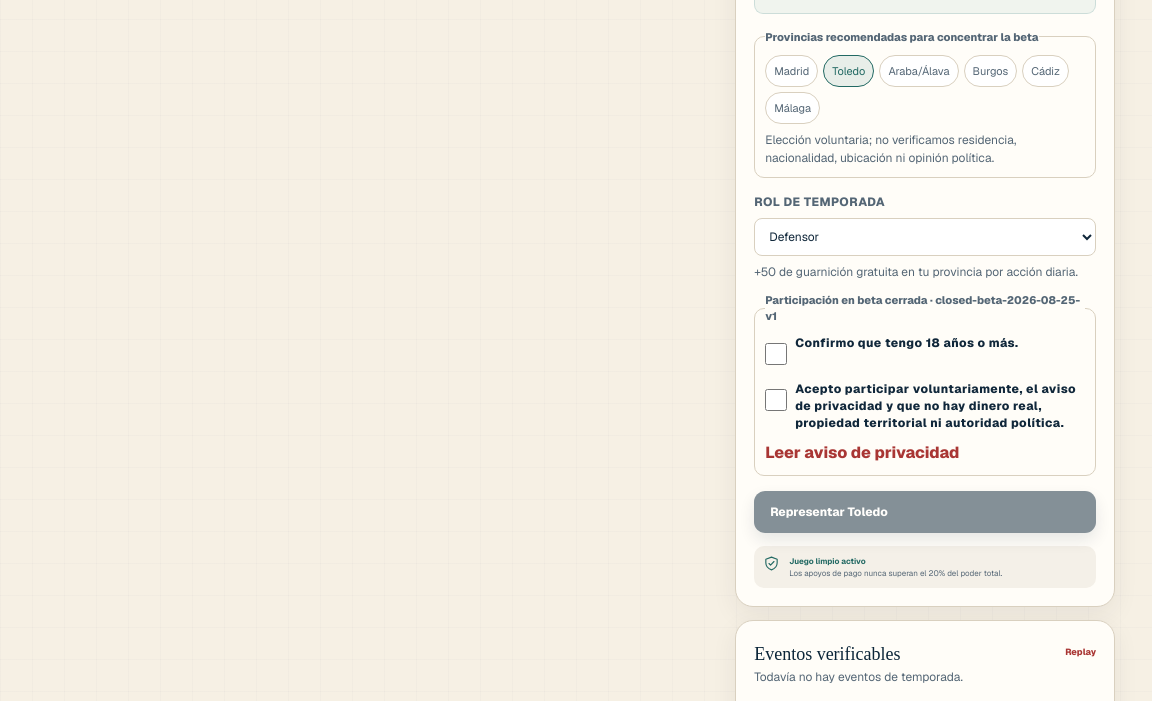
it: TerritoriosGame › requires versioned adult beta consent before a newcomer can join
(page scrolled)
expect the button "Representar Toledo" is disabled: met, box [754, 491, 1096, 533]
expect the button "Madrid" is shown: met, box [765, 55, 818, 87]
Step 1. Click the checkbox labelled "Confirmo que tengo 18 años o más." → [776, 354], box [765, 334, 787, 372]
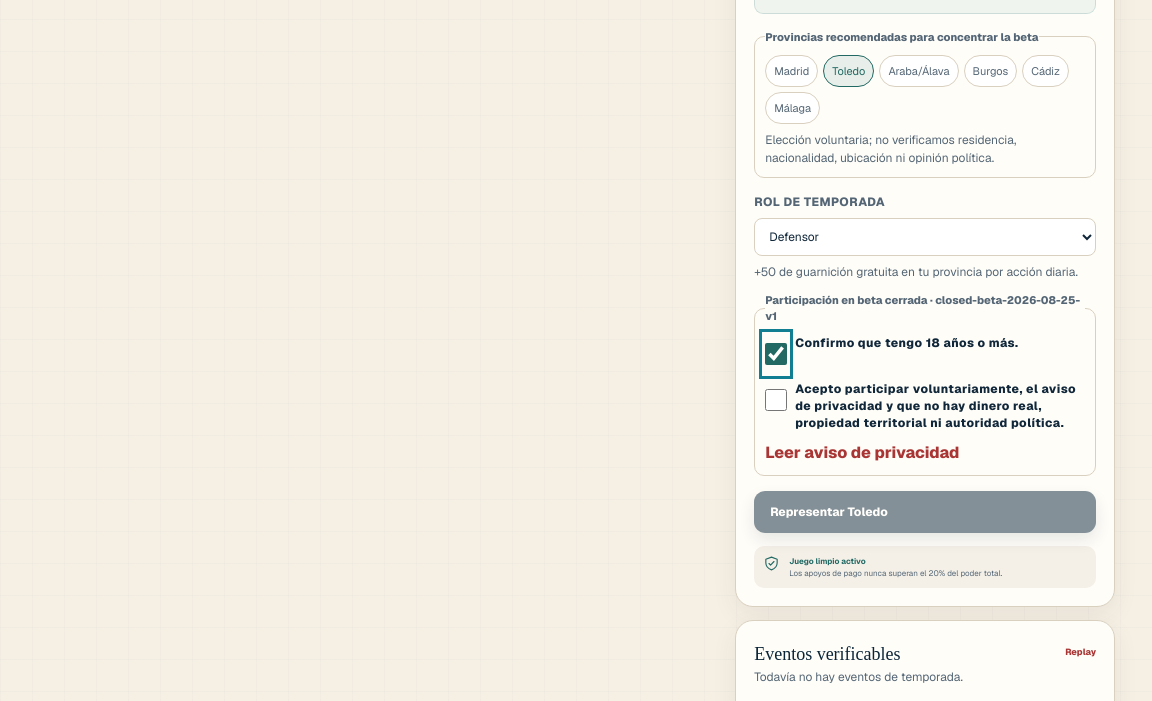
Step 2. Click the checkbox labelled "Acepto participar voluntariamente" → [776, 400], box [765, 380, 787, 418]
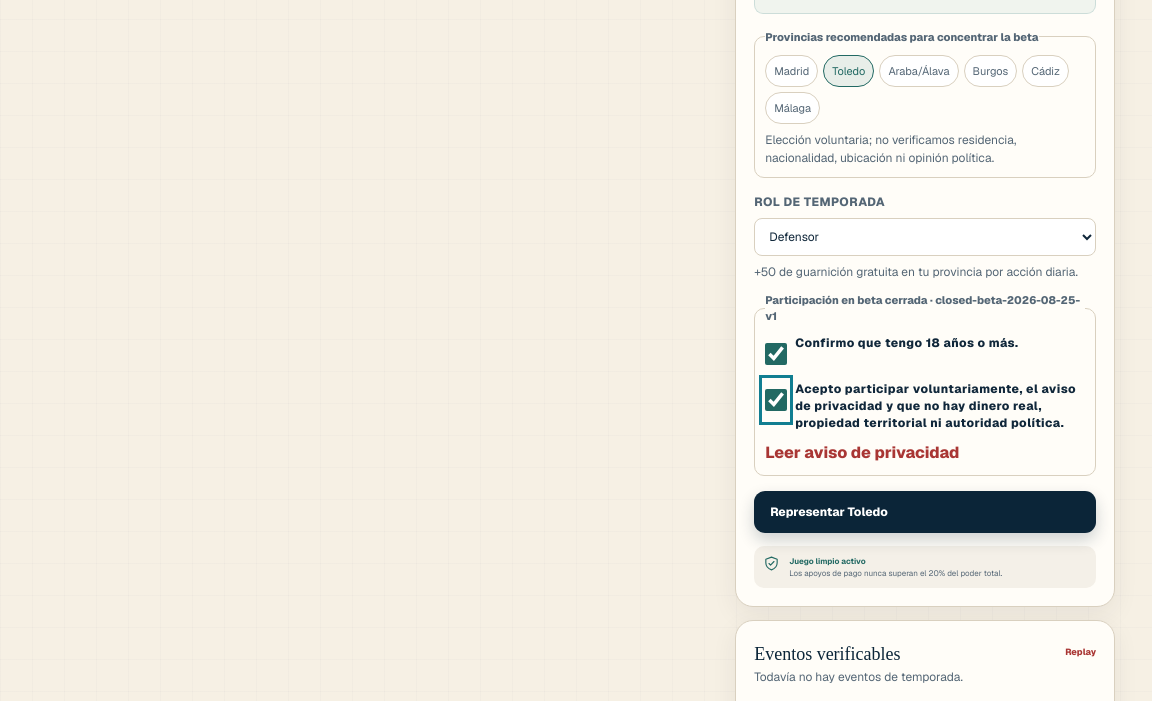
expect the button "Representar Toledo" is enabled: met
Step 3. Click the button "Representar Toledo" → [829, 512], box [754, 491, 1096, 533]
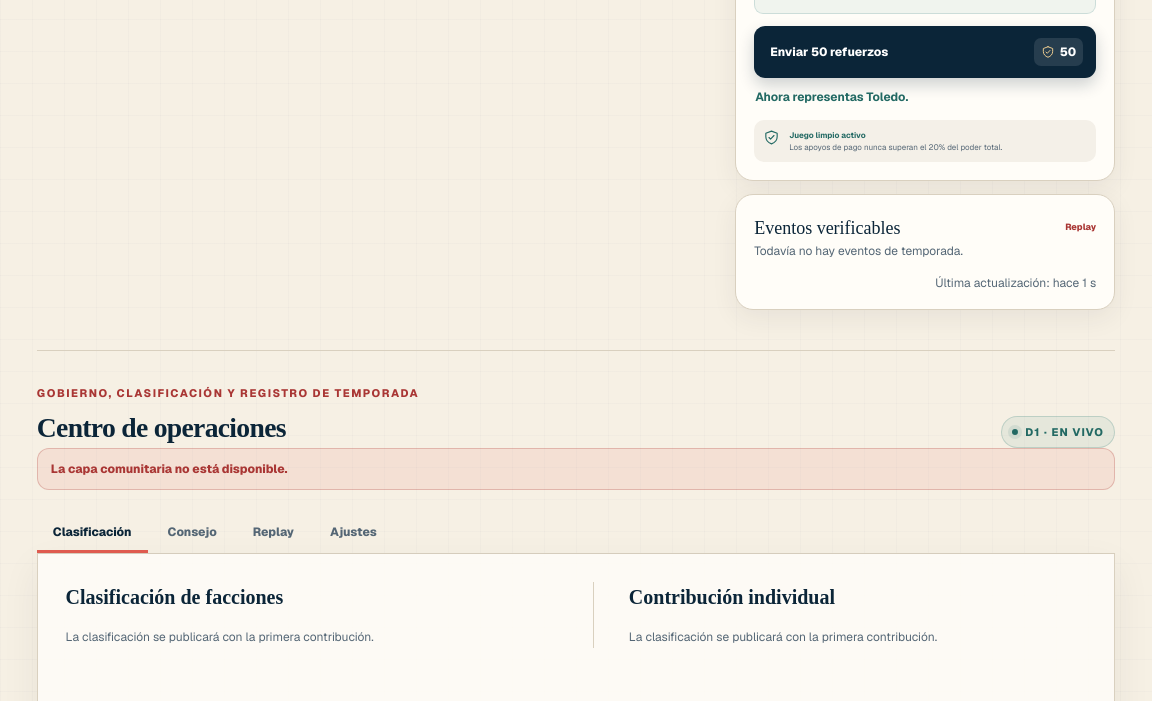
expect the text "Ahora representas Toledo." is shown: met, box [755, 89, 908, 105]
